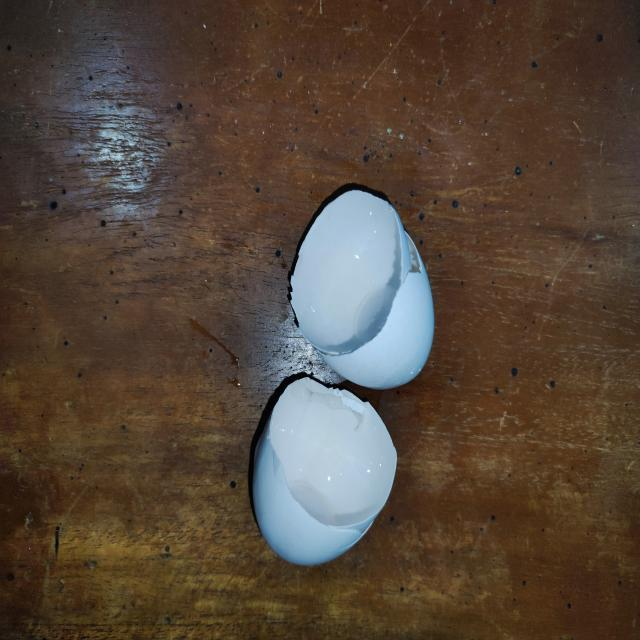egg shell: (289, 188, 436, 388), (250, 376, 398, 566)
